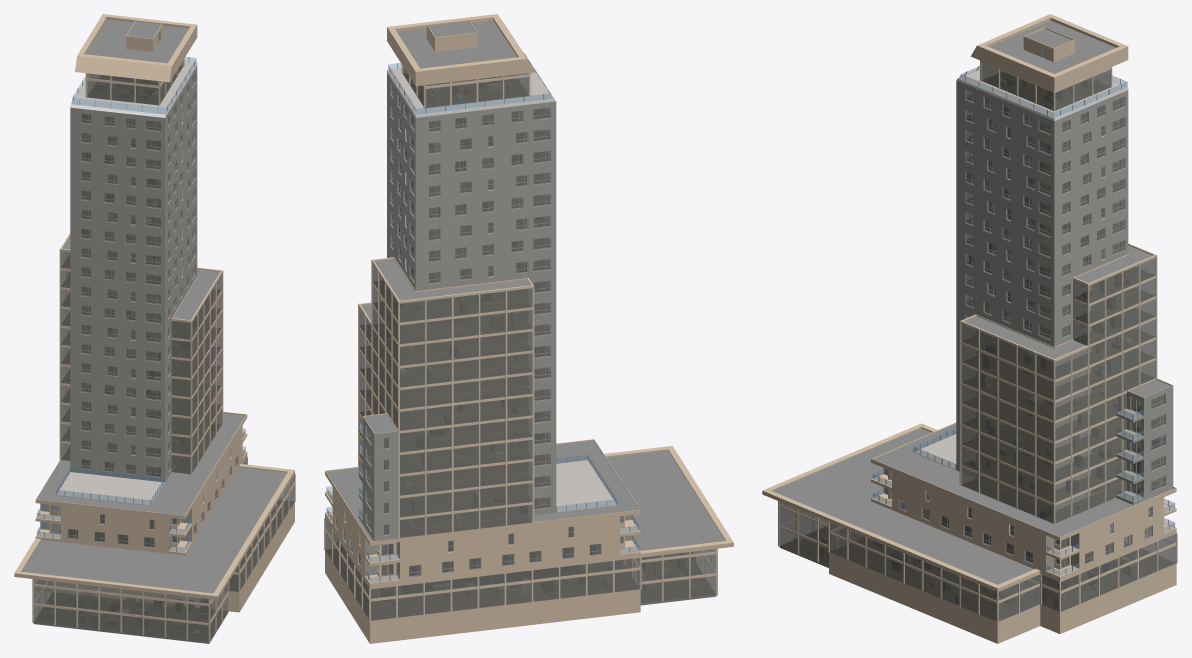
The model's file is 高层建筑.glb.
The picture shows the model from 3 angles, left to right: view 1: azimuth 30°, elevation 25°; view 2: azimuth 150°, elevation 25°; view 3: azimuth 270°, elevation 25°; orthographic projection. The views are drawn at different scales.
Bounding box in the file's own units: 65.19 × 99.5 × 69.18.
